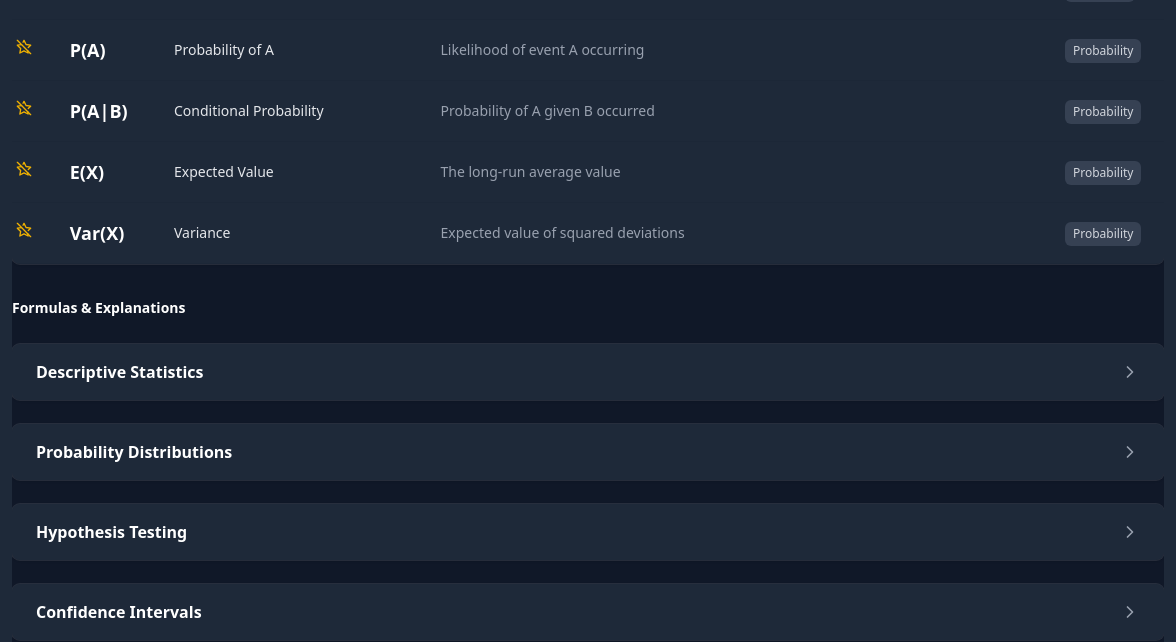
Scenario: CheatsheetPage (unit) › should expand and collapse formula sections
(page scrolled)
What coordinates should you click on to do the following:
click the button "Descriptive Statistics"
I would click on:
 (120, 372)
Its box is [12,344,1164,400].
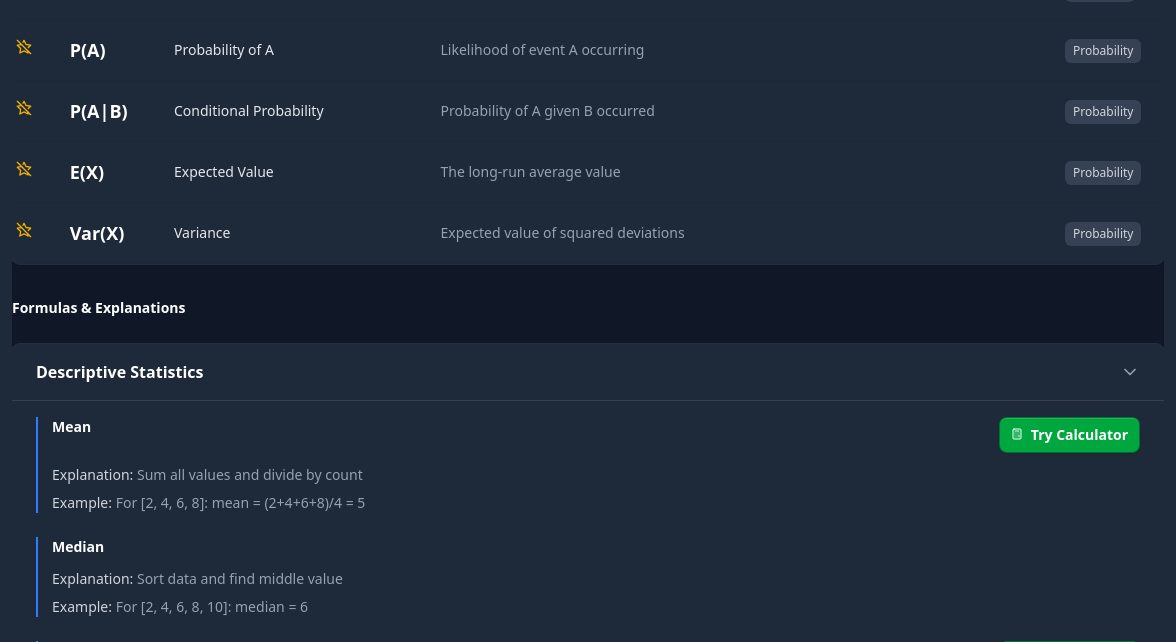
Expected: the text "Sum all values and divide by count" is shown, [137,465,363,484]
